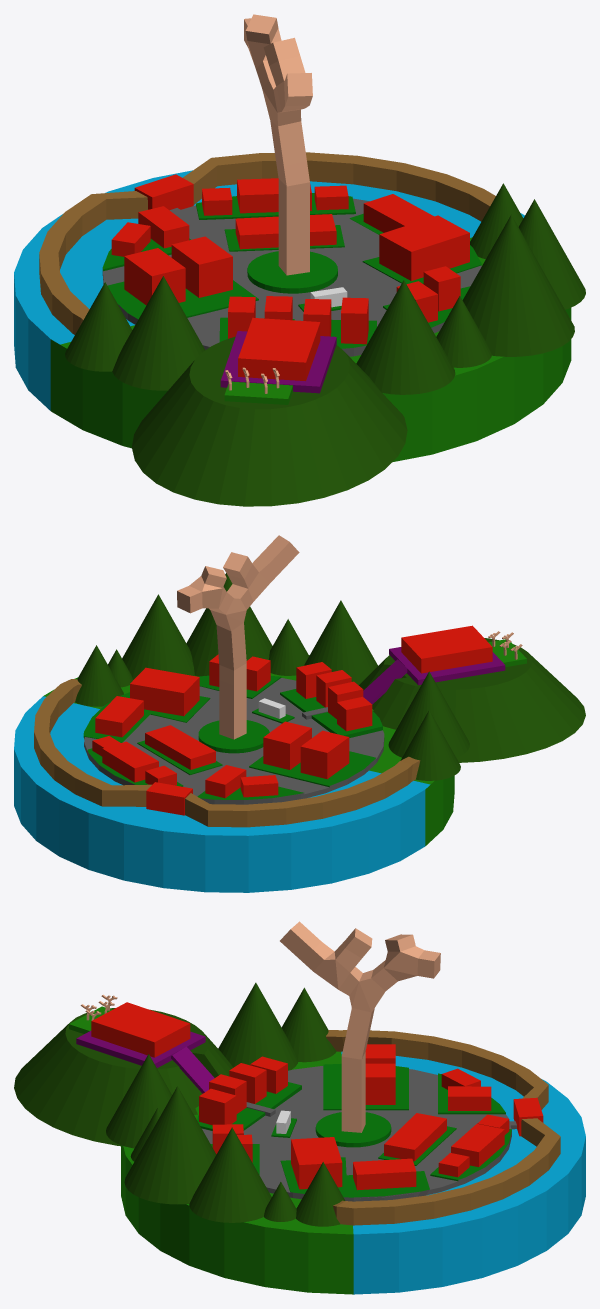
Rendered from ghibli_volumetria_canviada.fbx.
The picture shows the model from 3 angles, top to bottom: view 1: azimuth 30°, elevation 25°; view 2: azimuth 150°, elevation 25°; view 3: azimuth 270°, elevation 25°; orthographic projection. The views are drawn at different scales.
Visible parts, largest first — view 1: mountain_big, muralla, viatren, central_tree, mountain5, road, base_houses, mountain3, mountain2, base_house_ghost, house10, mountain1 (+21 smaller); view 2: muralla, mountain_big, viatren, base_houses, central_tree, road, mountain6, base_house_ghost, mountain3, mountain2, house10, mountain5 (+21 smaller); view 3: muralla, viatren, mountain_big, central_tree, road, base_houses, mountain5, mountain6, mountain2, base_house_ghost, mountain3, mountain1 (+19 smaller).
Boxes of the visible parts, x1=… form: mountain_big: x1=132, y1=336, x2=407, y2=506; muralla: x1=14, y1=170, x2=571, y2=462; viatren: x1=39, y1=152, x2=495, y2=334; central_tree: x1=244, y1=14, x2=312, y2=275; mountain5: x1=462, y1=214, x2=574, y2=356; road: x1=103, y1=198, x2=481, y2=356; base_houses: x1=102, y1=193, x2=481, y2=351; mountain3: x1=356, y1=280, x2=455, y2=394; mountain2: x1=112, y1=276, x2=205, y2=390; base_house_ghost: x1=238, y1=317, x2=320, y2=381; house10: x1=379, y1=215, x2=469, y2=280; mountain1: x1=65, y1=282, x2=132, y2=371; muralla: x1=14, y1=655, x2=454, y2=892; mountain_big: x1=359, y1=638, x2=585, y2=762; viatren: x1=34, y1=679, x2=420, y2=827; base_houses: x1=83, y1=675, x2=382, y2=804; central_tree: x1=177, y1=535, x2=299, y2=739; road: x1=84, y1=678, x2=384, y2=804; mountain6: x1=122, y1=594, x2=194, y2=679; base_house_ghost: x1=401, y1=625, x2=492, y2=673; mountain3: x1=304, y1=600, x2=377, y2=685; mountain2: x1=388, y1=671, x2=469, y2=757; house10: x1=130, y1=667, x2=199, y2=716; mountain5: x1=186, y1=573, x2=272, y2=676; muralla: x1=121, y1=1051, x2=585, y2=1294; viatren: x1=326, y1=1030, x2=560, y2=1225; mountain_big: x1=14, y1=1008, x2=232, y2=1146; central_tree: x1=280, y1=921, x2=440, y2=1132; road: x1=202, y1=1066, x2=511, y2=1201; base_houses: x1=197, y1=1063, x2=511, y2=1201; mountain5: x1=124, y1=1086, x2=216, y2=1204; mountain6: x1=189, y1=1127, x2=271, y2=1222; mountain2: x1=218, y1=982, x2=297, y2=1070; base_house_ghost: x1=91, y1=1002, x2=190, y2=1057; mountain3: x1=106, y1=1054, x2=171, y2=1148; mountain1: x1=281, y1=987, x2=336, y2=1062.
Bounding box in the file's own units: 4152 × 2365 × 4701.
